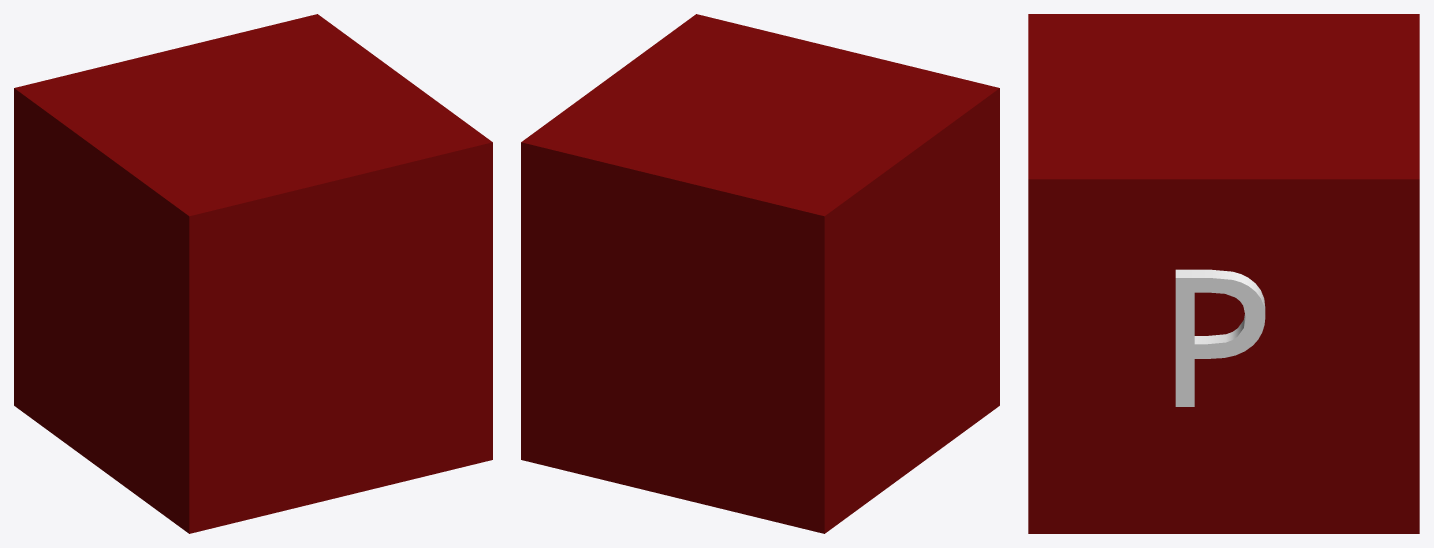
3 views of the same model, side by side, from view 1: azimuth 30°, elevation 25°; view 2: azimuth 150°, elevation 25°; view 3: azimuth 270°, elevation 25° (orthographic). The views are drawn at different scales.
Visible parts, largest first — view 1: SketchUp; view 2: SketchUp; view 3: SketchUp, P (×2).
Part boxes in pixels (left/top/right/bottom): SketchUp: left=14, top=14, right=492, bottom=533; SketchUp: left=521, top=14, right=999, bottom=533; SketchUp: left=1028, top=14, right=1419, bottom=533; P (×2): left=1175, top=269, right=1265, bottom=406.
Bounding box in the file's own units: 21 × 20 × 20.
